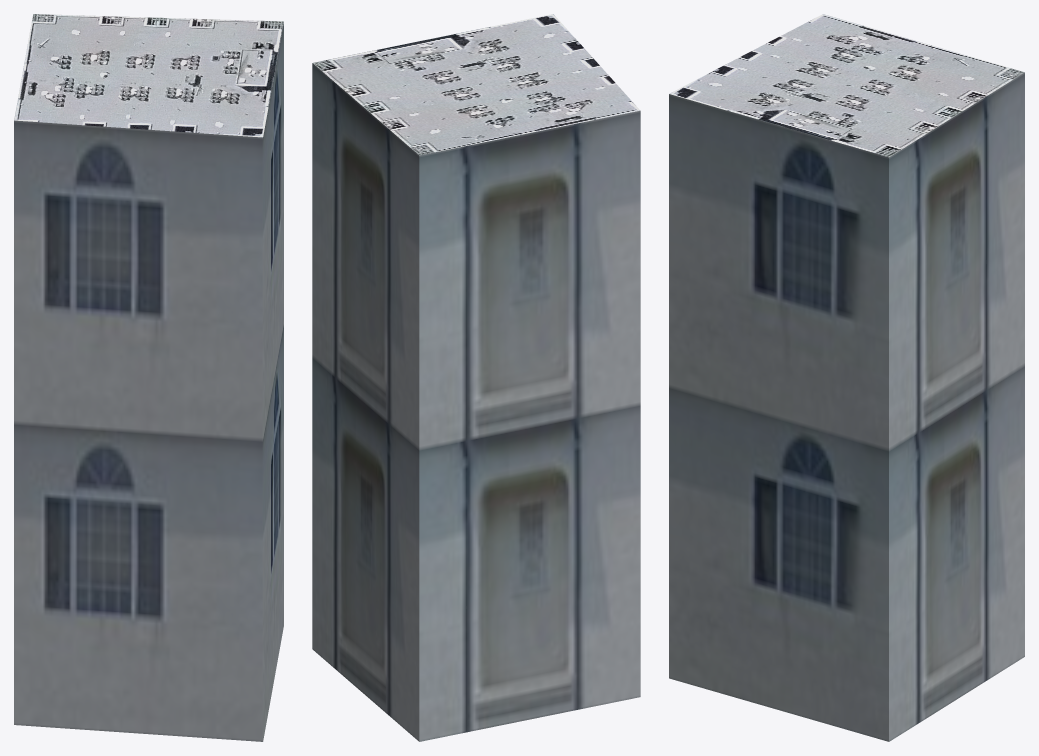
File: ResTex__4467.fbx
3 views of the same model, side by side, from view 1: azimuth 30°, elevation 25°; view 2: azimuth 150°, elevation 25°; view 3: azimuth 270°, elevation 25° (orthographic). The views are drawn at different scales.
Visible parts, largest first — view 1: CityEngineMaterial_17_m, CityEngineMaterial_4_m; view 2: CityEngineMaterial_17_m, CityEngineMaterial_4_m; view 3: CityEngineMaterial_17_m, CityEngineMaterial_4_m.
Boxes of the visible parts, x1=… form: CityEngineMaterial_17_m: x1=14, y1=22, x2=283, y2=741; CityEngineMaterial_4_m: x1=14, y1=14, x2=283, y2=137; CityEngineMaterial_17_m: x1=312, y1=63, x2=640, y2=741; CityEngineMaterial_4_m: x1=313, y1=14, x2=639, y2=155; CityEngineMaterial_17_m: x1=669, y1=72, x2=1024, y2=741; CityEngineMaterial_4_m: x1=669, y1=14, x2=1024, y2=157.
Bounding box in the file's own units: 3.16 × 6 × 3.31.
2 materials, 2 textured.
